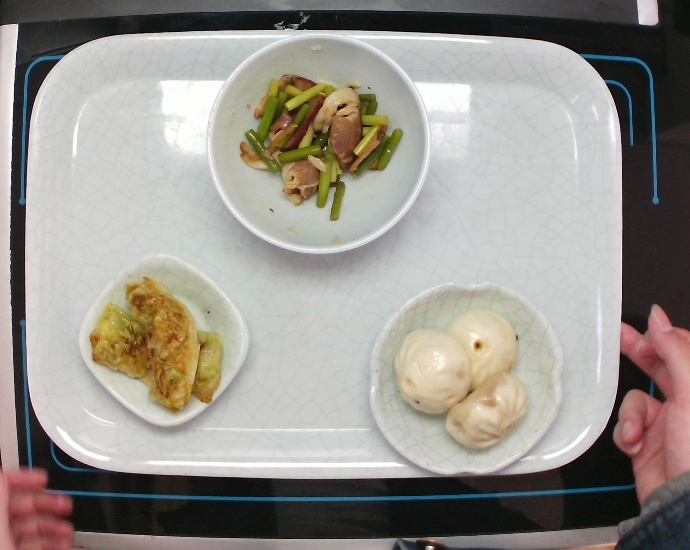JYsf-Ao_Yuan_Wan: (365, 275, 569, 480)
JYsf-Fan_Wan: (201, 28, 435, 258)
JYsf-Si_Fang_Die: (73, 249, 254, 432)
